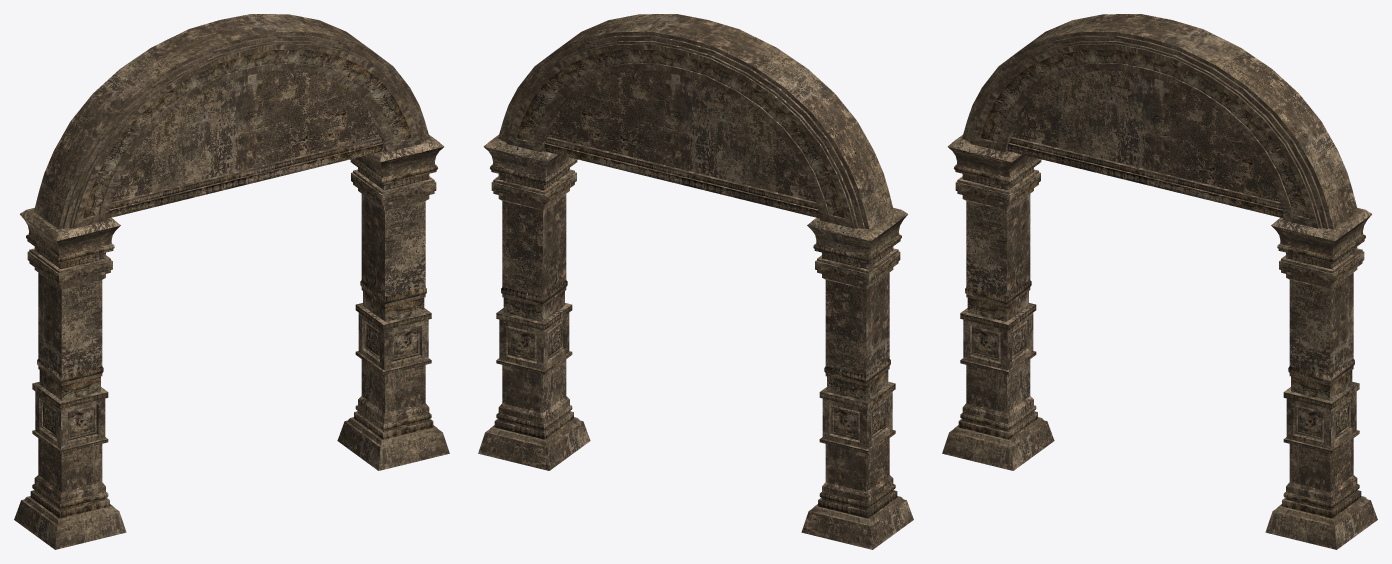
The model's file is materials_5_gate_3.fbx.
3 renders of one model, left to right at view 1: azimuth 30°, elevation 25°; view 2: azimuth 150°, elevation 25°; view 3: azimuth 330°, elevation 25°, orthographic.
Parts seen in each view (by area): view 1: materials_5_gate_3; view 2: materials_5_gate_3; view 3: materials_5_gate_3.
Part boxes in pixels (x1,y1,x2,y2): materials_5_gate_3: [14, 14, 449, 549]; materials_5_gate_3: [478, 14, 913, 549]; materials_5_gate_3: [942, 14, 1377, 549].
Size of the model in its own units: 548 by 607 by 98.97.
